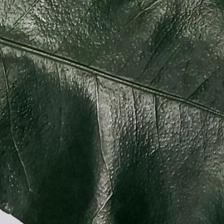healthy: (1, 2, 224, 224)
